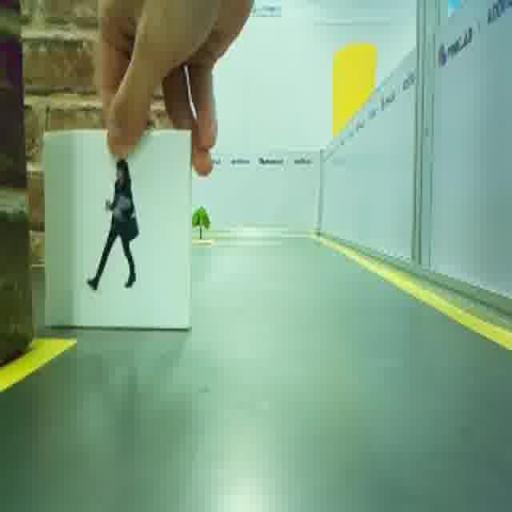human: (87, 159, 138, 289)
